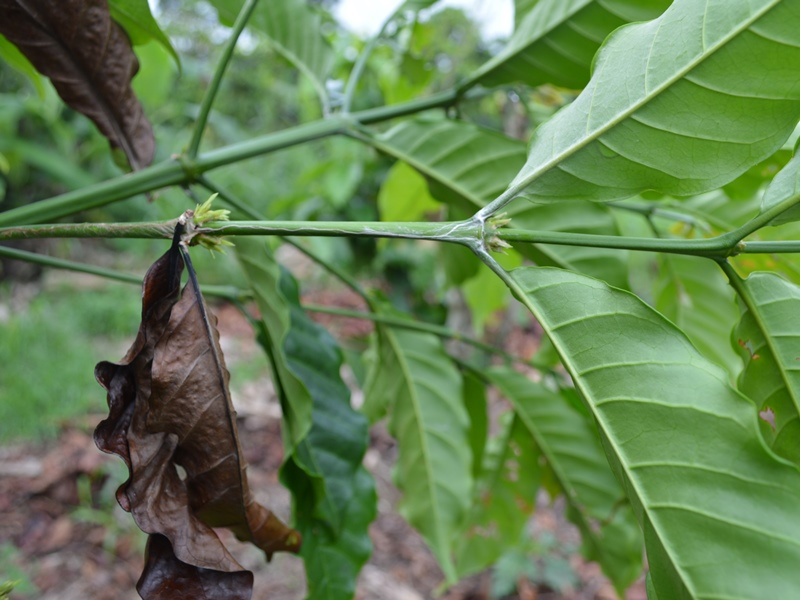mal de hilachas: (91, 226, 331, 600), (2, 1, 176, 175)
